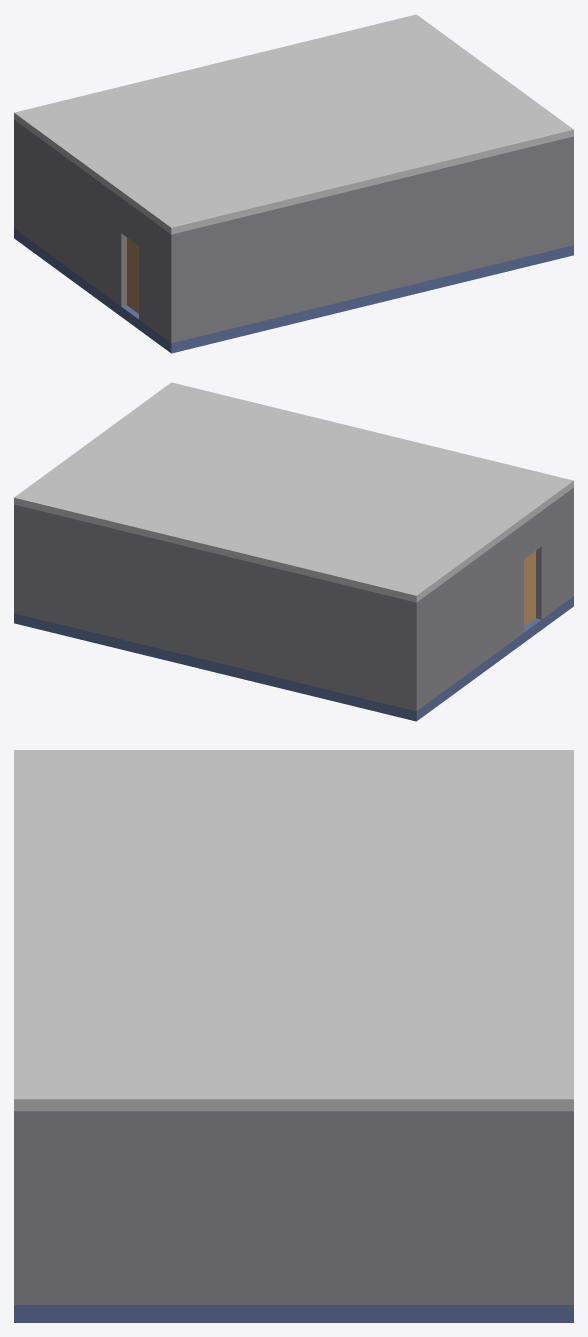
Rendered from bookstore_desk.glb.
3 renders of one model, top to bottom at view 1: azimuth 30°, elevation 25°; view 2: azimuth 150°, elevation 25°; view 3: azimuth 270°, elevation 25°, orthographic. The views are drawn at different scales.
Parts seen in each view (by area): view 1: Desk_Ceiling, Desk_Wall_S_1, Desk_Wall_W_1, Desk_Floor, Desk_Wall_W_3, DoorLeaf_bookstore, Desk_Wall_W_2, Desk_Wall_N_1; view 2: Desk_Ceiling, Desk_Wall_N_1, Desk_Wall_W_1, Desk_Floor, Desk_Wall_W_3, DoorLeaf_bookstore, Desk_Wall_W_2, Desk_Wall_S_1; view 3: Desk_Ceiling, Desk_Wall_E_1, Desk_Floor, Desk_Wall_N_1, Desk_Wall_S_1.
Boxes of the visible parts, box(x1,y1,x2,y2) form: Desk_Ceiling: box(14, 14, 573, 234); Desk_Wall_S_1: box(167, 136, 573, 343); Desk_Wall_W_1: box(17, 122, 126, 306); Desk_Floor: box(14, 228, 573, 353); Desk_Wall_W_3: box(139, 211, 167, 340); DoorLeaf_bookstore: box(127, 238, 138, 313); Desk_Wall_W_2: box(121, 198, 138, 245); Desk_Wall_N_1: box(14, 119, 17, 230); Desk_Ceiling: box(14, 382, 573, 602); Desk_Wall_N_1: box(14, 504, 420, 711); Desk_Wall_W_1: box(420, 524, 523, 708); Desk_Floor: box(14, 596, 573, 721); Desk_Wall_W_3: box(536, 490, 570, 619); DoorLeaf_bookstore: box(524, 551, 535, 626); Desk_Wall_W_2: box(524, 511, 541, 558); Desk_Wall_S_1: box(570, 487, 573, 598); Desk_Ceiling: box(14, 750, 573, 1111); Desk_Wall_E_1: box(27, 1111, 560, 1304); Desk_Floor: box(14, 1305, 573, 1322); Desk_Wall_N_1: box(560, 1111, 573, 1304); Desk_Wall_S_1: box(14, 1111, 27, 1304).
Size of the model in its own units: 12.4 by 3.7 by 8.4.
